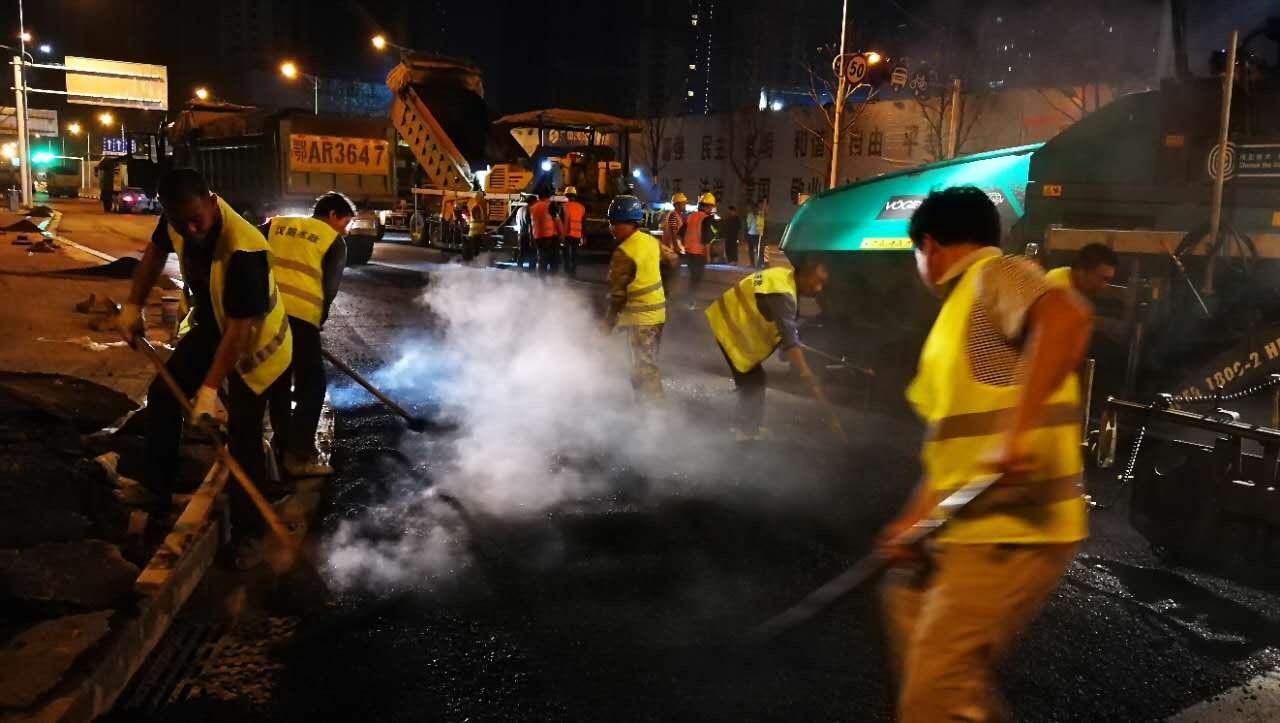blue: (604, 191, 645, 238)
none: (911, 192, 1002, 299), (155, 165, 216, 241), (1070, 241, 1118, 298), (312, 191, 354, 235), (791, 253, 830, 296)
yellow: (697, 191, 716, 214), (671, 190, 688, 212), (563, 184, 578, 200)
